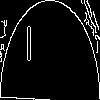I: (25, 25, 33, 72)
